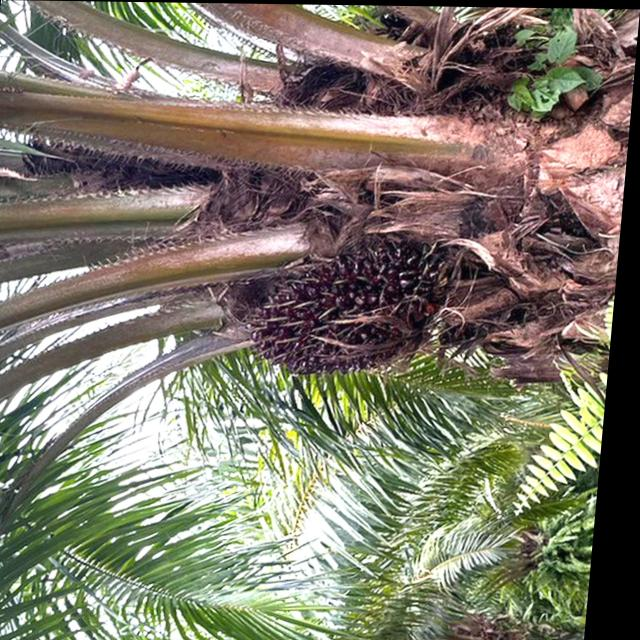ripe: (233, 232, 462, 391)
